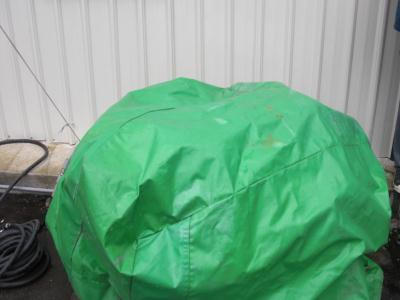plastic_bag: (77, 79, 384, 300)
